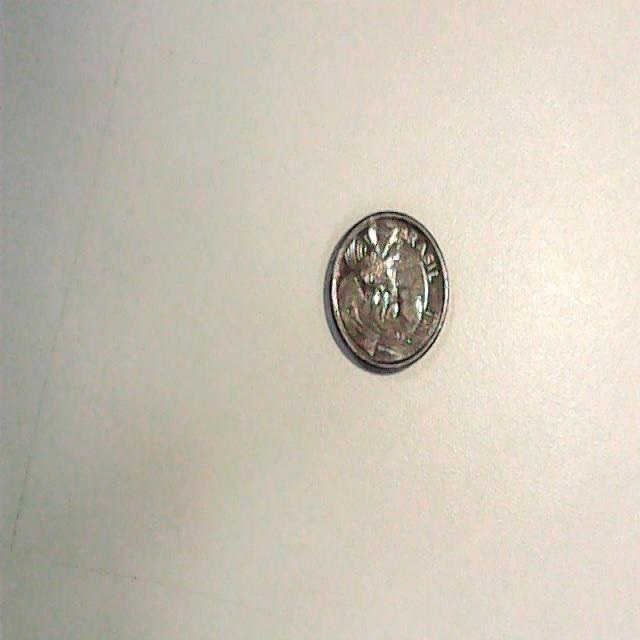50 cents: (318, 205, 454, 380)
